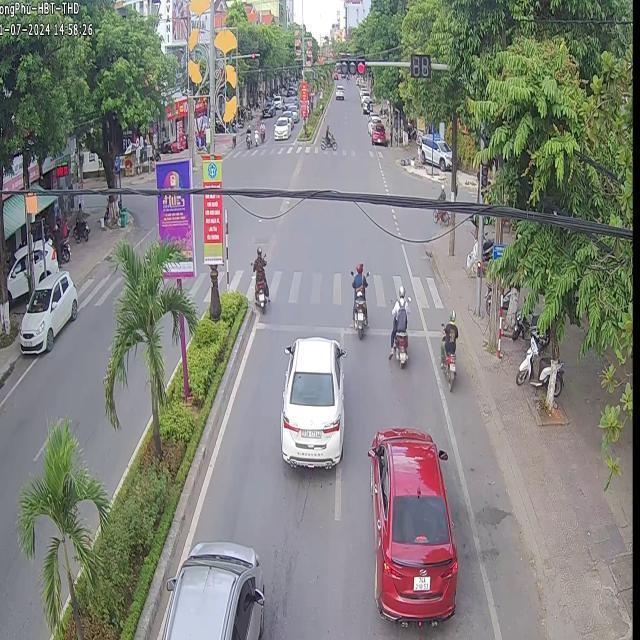car: (368, 438, 459, 636), (160, 540, 263, 638), (279, 336, 344, 467)
motobike: (389, 280, 410, 375), (438, 299, 458, 393), (346, 252, 365, 346), (250, 242, 268, 325)
red_light: (335, 51, 366, 76), (478, 154, 488, 187)
stop_line: (253, 321, 454, 336)
